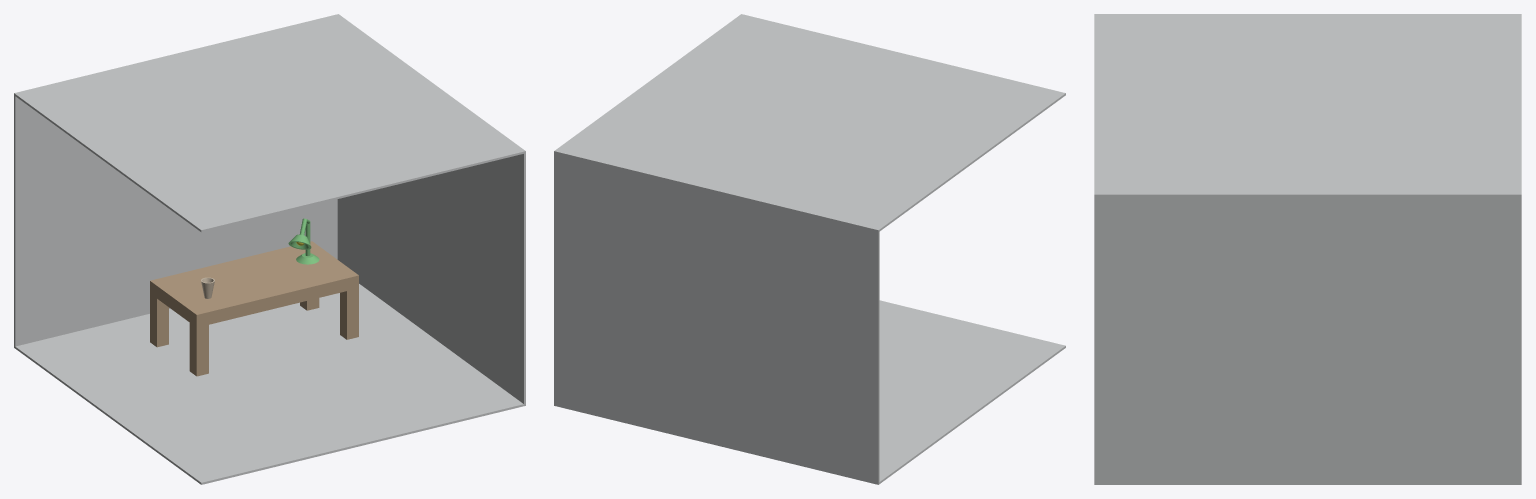
The model's file is Table.glb.
3 views of the same model, side by side, from view 1: azimuth 30°, elevation 25°; view 2: azimuth 150°, elevation 25°; view 3: azimuth 270°, elevation 25° (orthographic). The views are drawn at different scales.
Parts seen in each view (by area): view 1: Mesh_Mesh_head_geo.001_lambert2SG.001; view 2: Mesh_Mesh_head_geo.001_lambert2SG.001; view 3: Mesh_Mesh_head_geo.001_lambert2SG.001.
Boxes of the visible parts, <box> form: Mesh_Mesh_head_geo.001_lambert2SG.001: <box>14,14,525,484</box>; Mesh_Mesh_head_geo.001_lambert2SG.001: <box>554,14,1065,484</box>; Mesh_Mesh_head_geo.001_lambert2SG.001: <box>1094,14,1521,484</box>.
Bounding box in the file's own units: 80 × 60 × 80.
